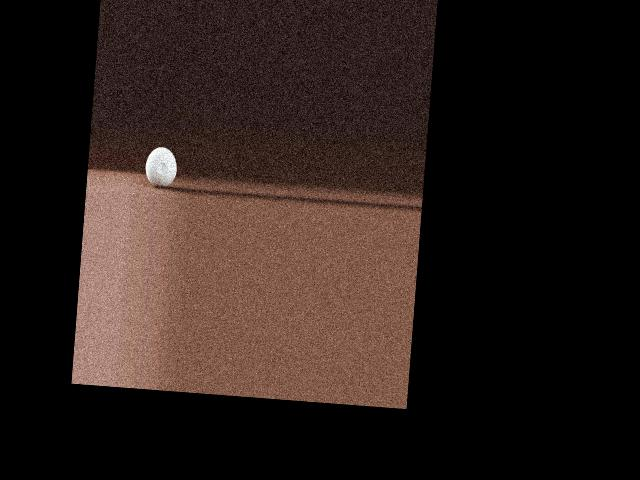egg: (144, 145, 178, 188)
